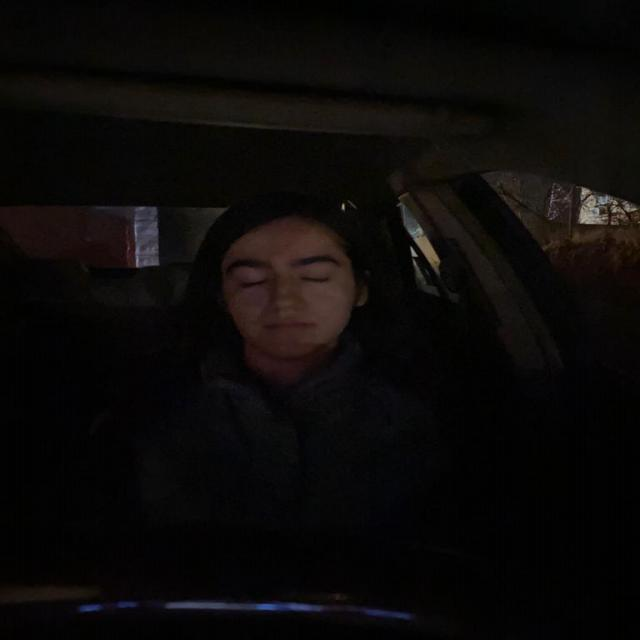drowsy: (198, 195, 375, 359)
